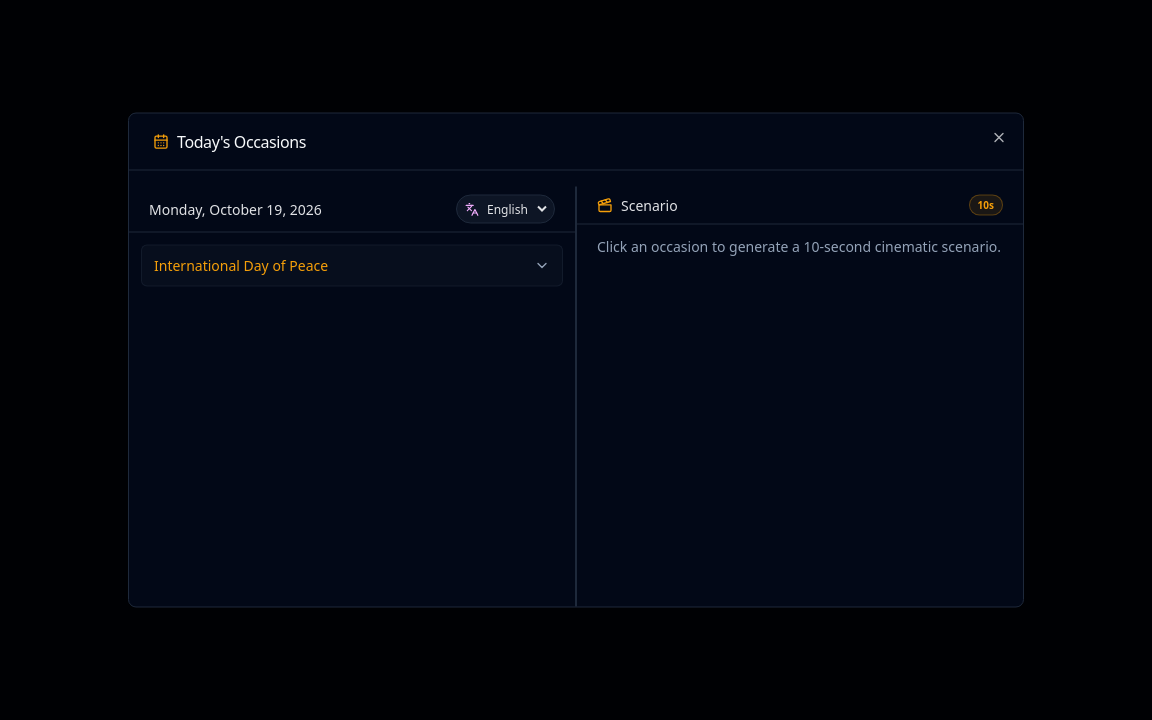
Test: CalendarInfoDialog translation › translates the selected title, section labels, and bodies and renders RTL
Click the button "International Day of Peace".
click(241, 265)  # box top-left (142, 246), bottom-right (562, 286)
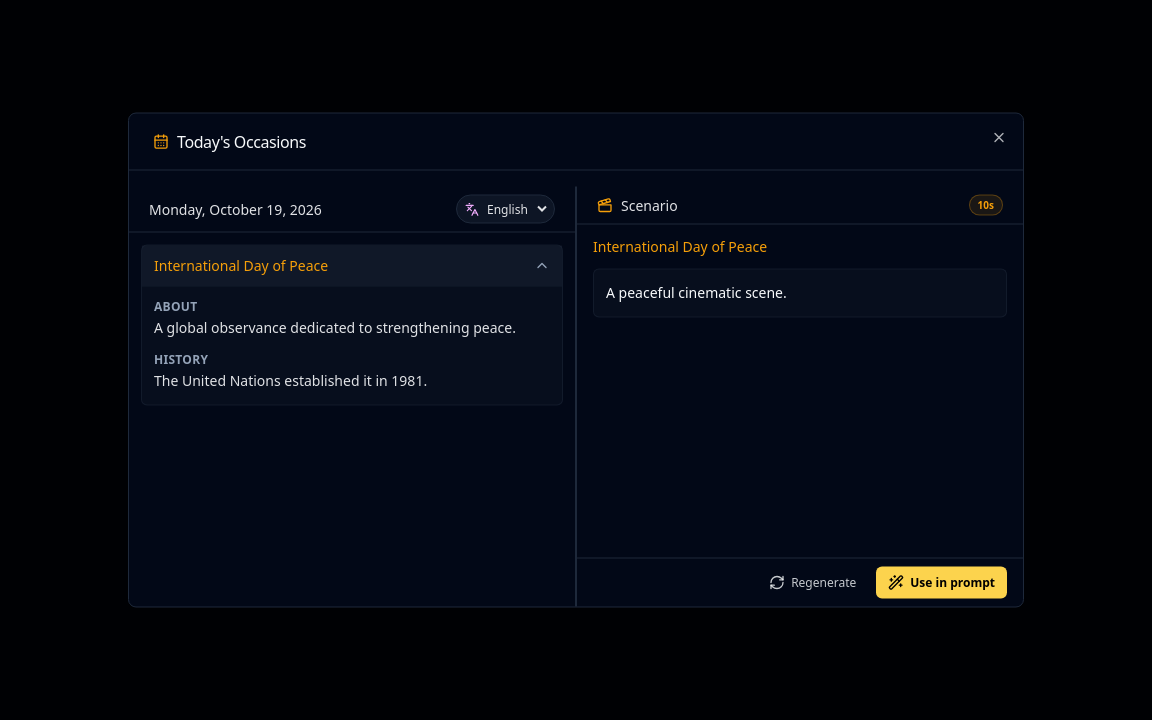
Check: the text "A global observance dedicated to strengthening peace." is shown, box top-left (154, 316), bottom-right (550, 339)
Select "فارسی" in the dropdown named "Translate occasion details" at (516, 209), box top-left (483, 198), bottom-right (550, 220)
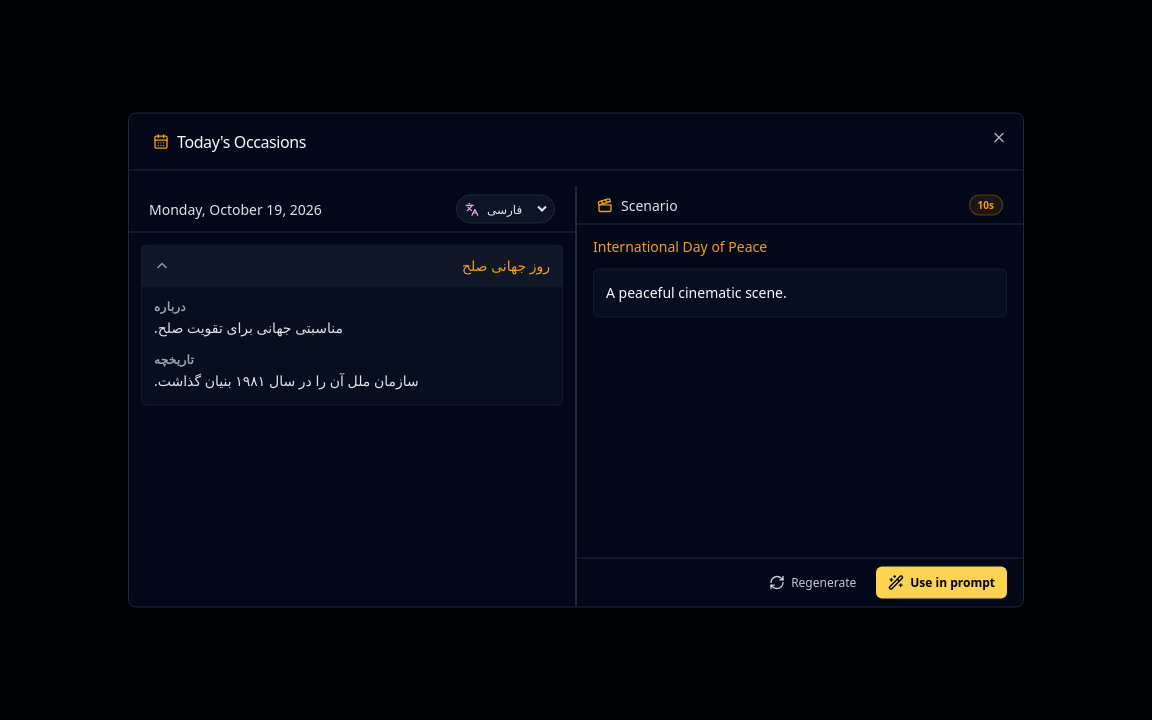
Check: the text "روز جهانی صلح" is shown, box top-left (462, 256), bottom-right (550, 276)
Check: the text "درباره" is shown, box top-left (154, 298), bottom-right (186, 314)
Check: the text "مناسبتی جهانی برای تقویت صلح." is shown, box top-left (154, 318), bottom-right (343, 336)
